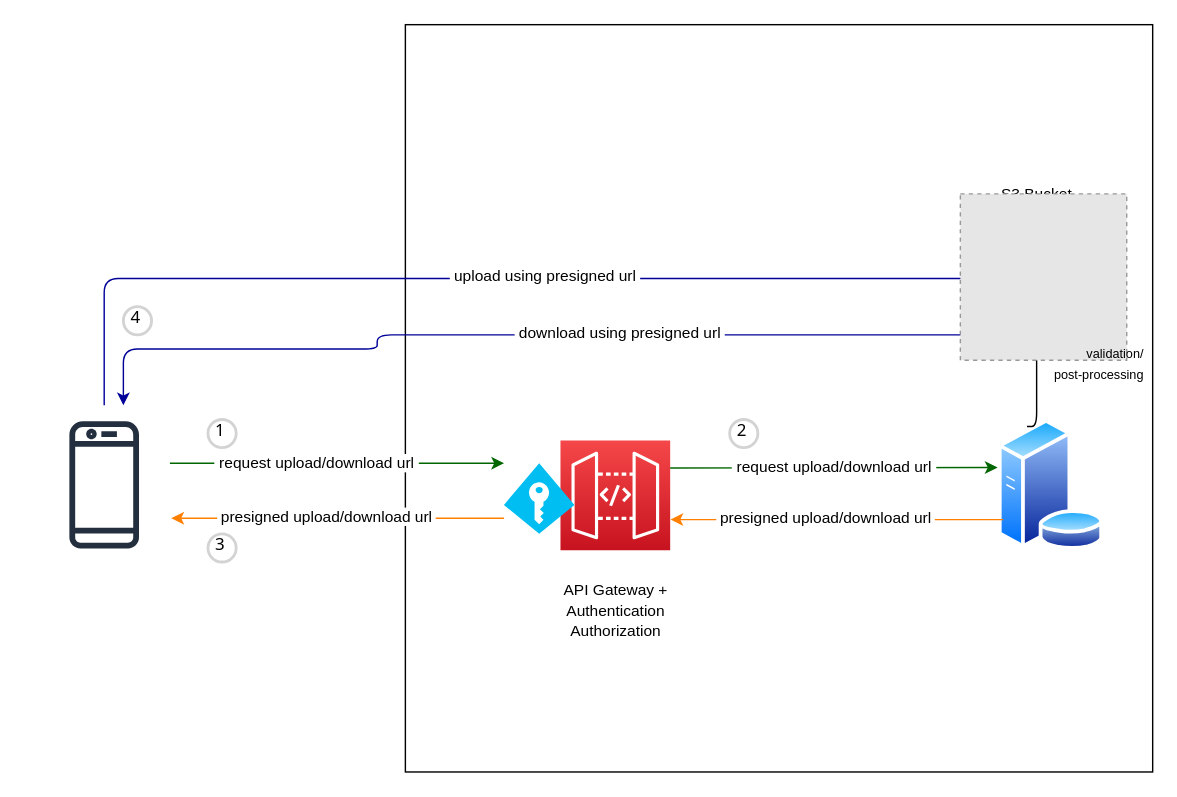
The diagram is 1177 pixels wide and 797 high, and some of its shapes have lost their labels. Grey dashed boxes stand in for pictures. The shapes that lost their labels are listed below. From the top down, each one's centre as x and y in pixels, then its label:
At point 103,484: "Client".
At point 1050,484: "Media Service".
